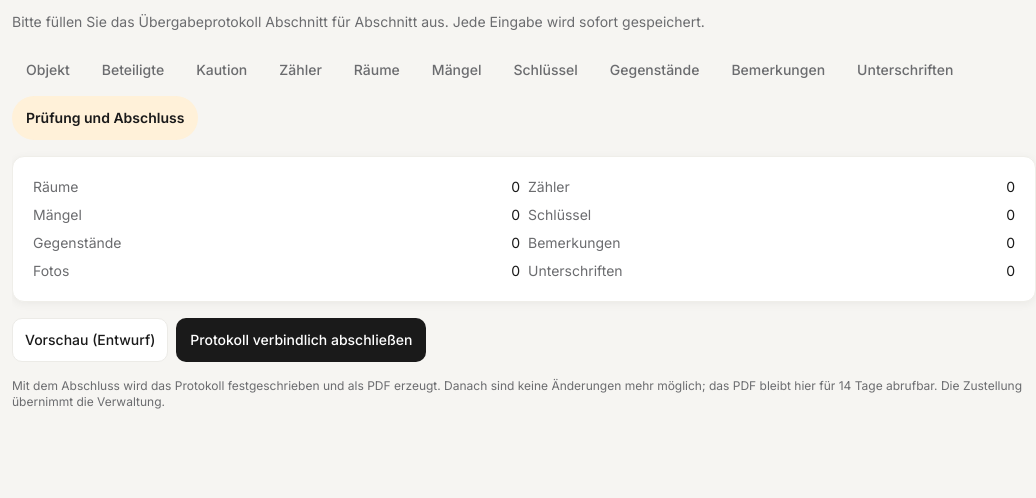
HandoverFill › shows the hints before completing and offers the forced completion
Click the button "Protokoll verbindlich abschließen": (301, 340) [176,318,426,362]
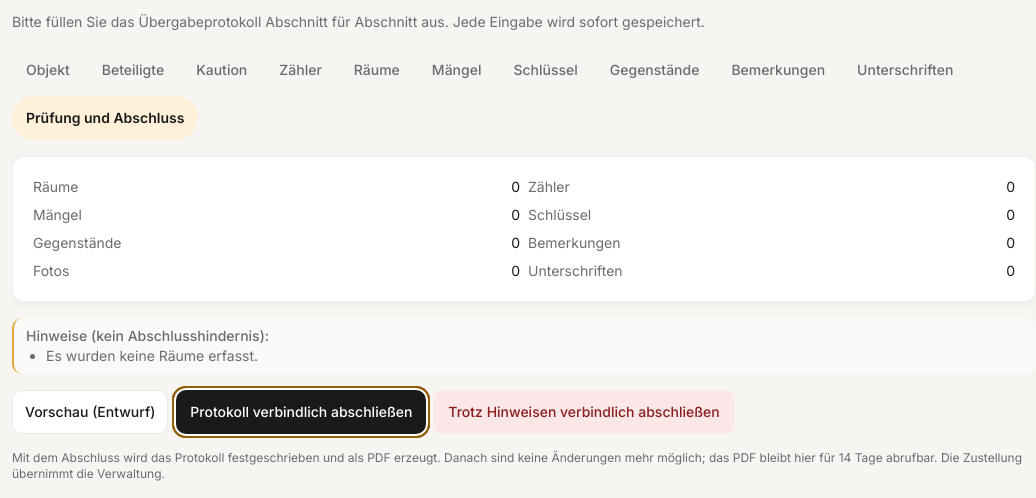
Expected: the element with test id "hints" shows "Es wurden keine Räume erfasst.", [46,347,258,364]
Expected: the button "Trotz Hinweisen verbindlich abschließen" is shown, [434,390,734,434]
